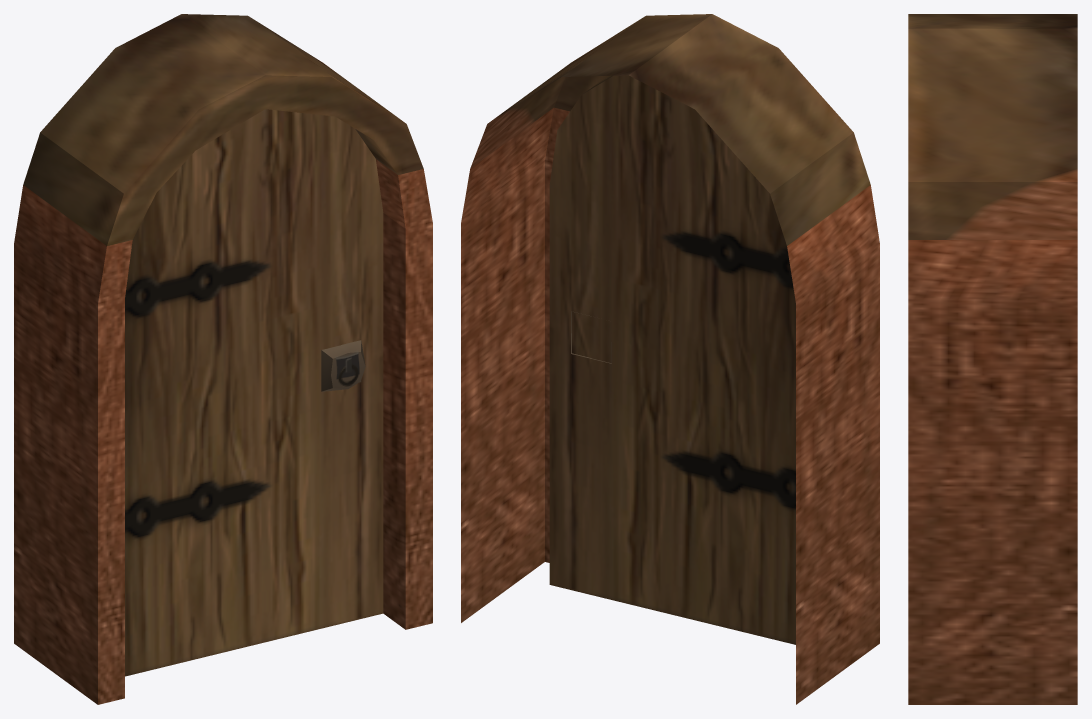
The model's file is fanasty_mod_door01.fbx.
3 renders of one model, left to right at view 1: azimuth 30°, elevation 25°; view 2: azimuth 150°, elevation 25°; view 3: azimuth 270°, elevation 25°, orthographic.
Parts seen in each view (by area): view 1: door_01; view 2: door_01; view 3: door_01.
Boxes of the visible parts, bbox=[...] form: door_01: bbox=[14, 14, 432, 704]; door_01: bbox=[461, 14, 879, 704]; door_01: bbox=[908, 14, 1077, 704].
Bounding box in the file's own units: 1.36 × 2.28 × 0.5886.
